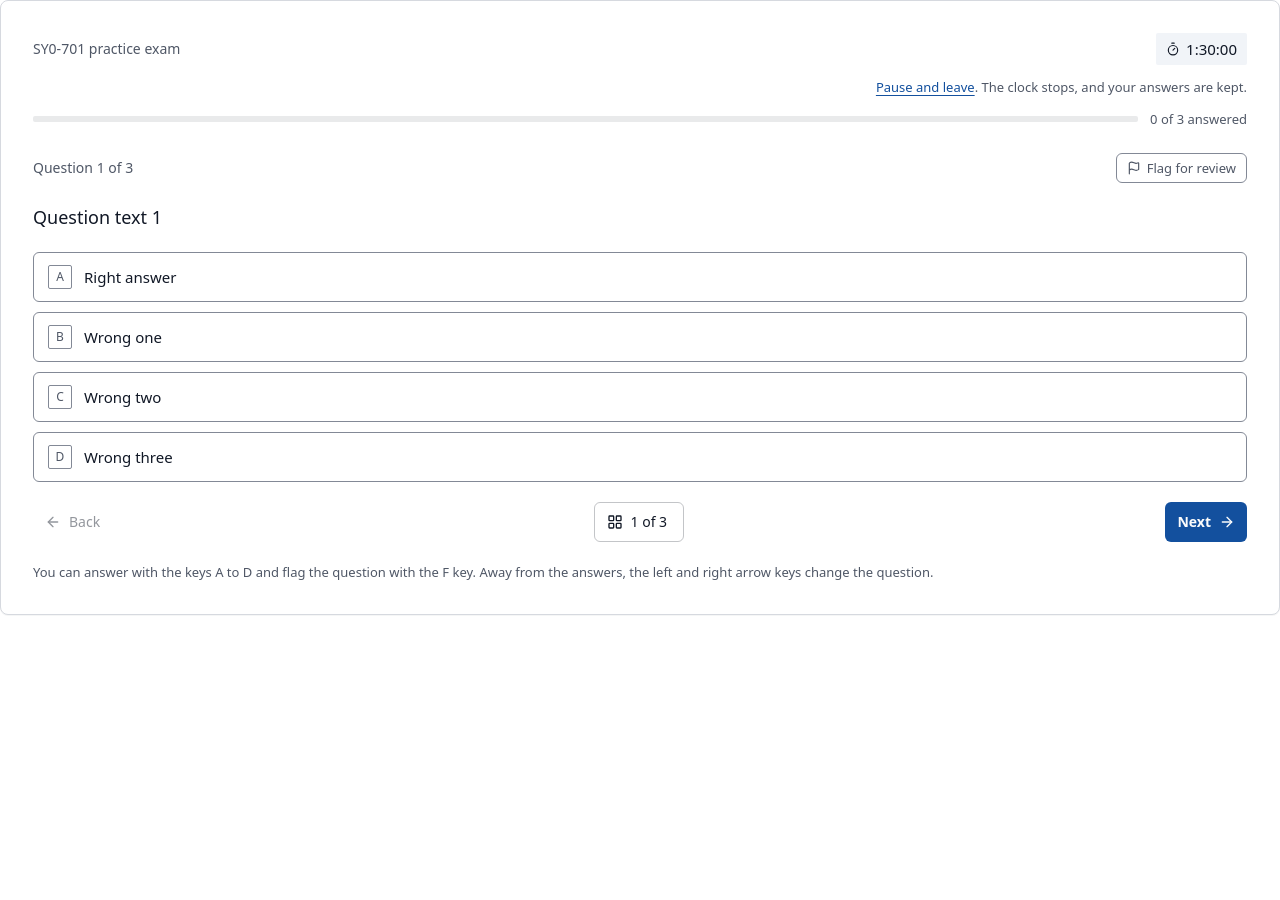
Test: RehearsalPlayer › names itself in the title of its screen where it is a screen of its own, and in a line under a page's own title elsewhere
The width and height of the screenshot is (1280, 900).
Click the button "1 of 3".
click(639, 522)  # box x1=594 y1=502 x2=684 y2=542
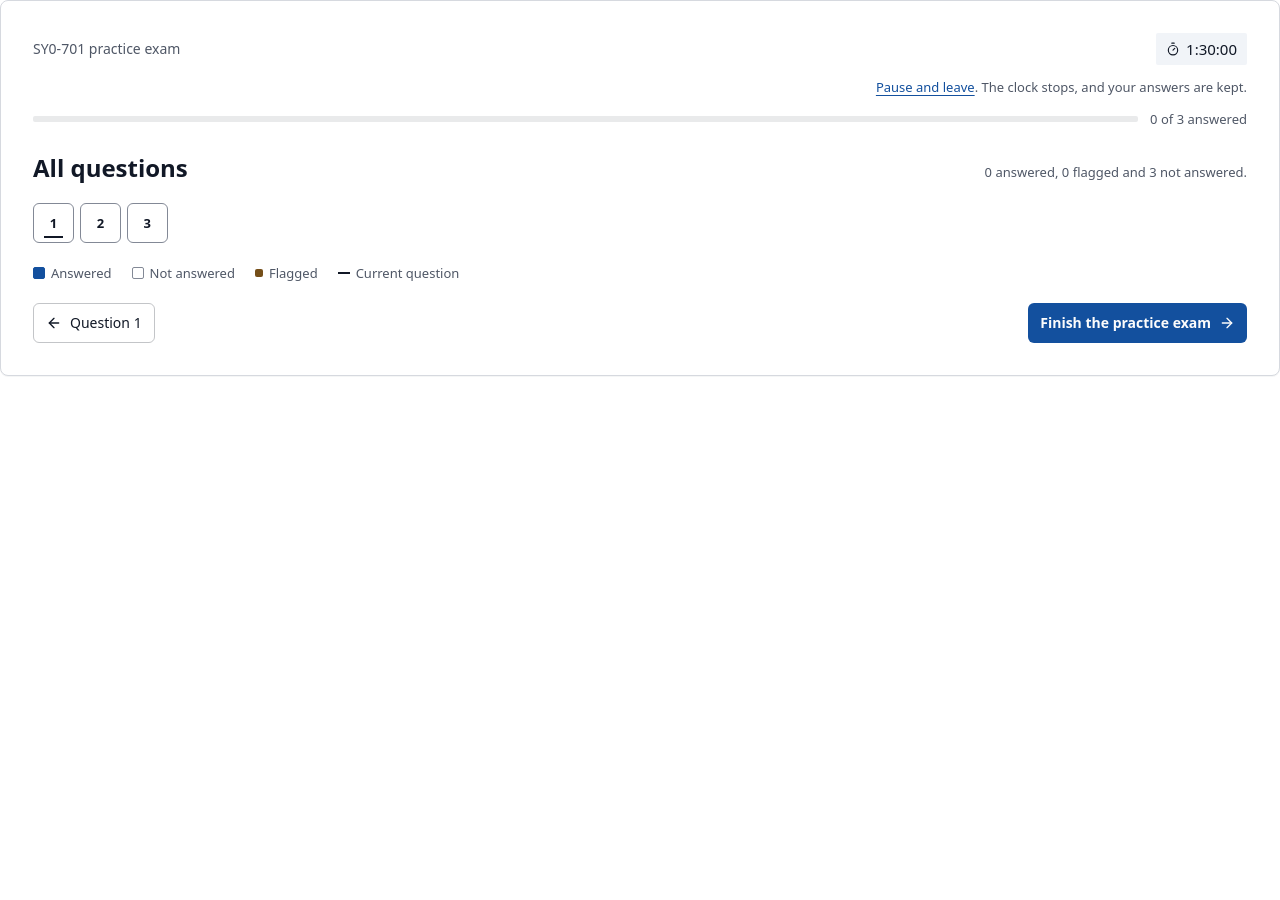
Now the heading "All questions" is shown, box x1=33 y1=153 x2=188 y2=183
